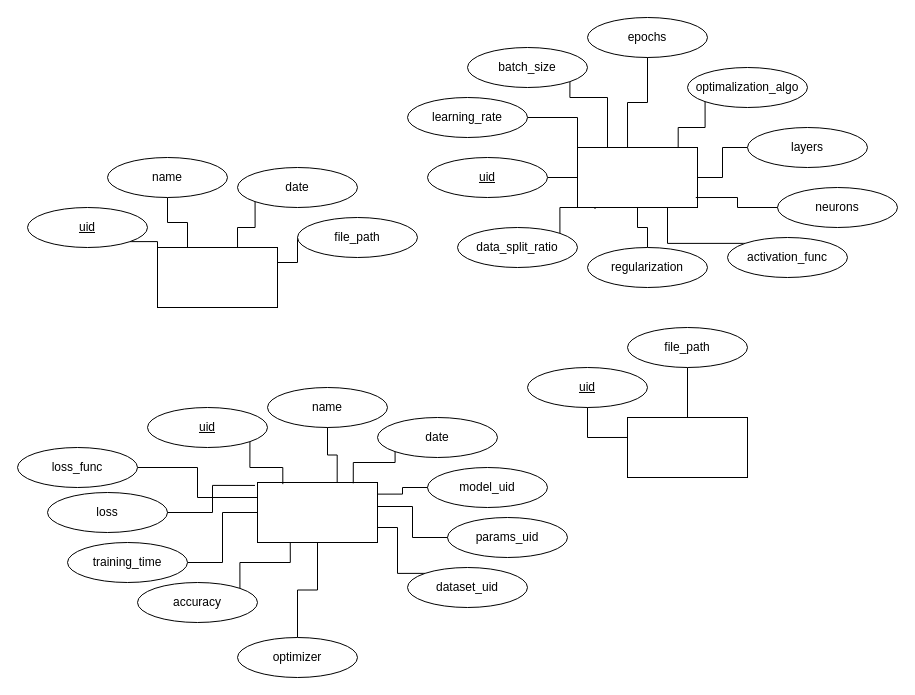
Some shapes in this 915 by 695 pixel diagram are drawn without their labels. The box of each missing label's shape, as (x1, y1, x2, y2) in pixels:
Datasets: (626, 416, 748, 478)
Hyperparameters: (576, 146, 698, 208)
Model: (156, 246, 278, 308)
Results: (256, 482, 378, 542)
